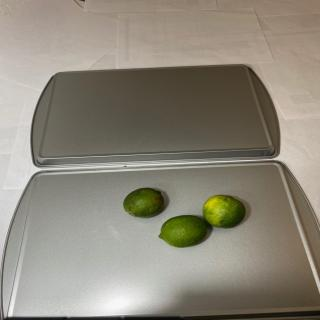Chilli: (123, 187, 164, 218)
Lemon: (158, 214, 208, 248), (202, 194, 246, 229)
